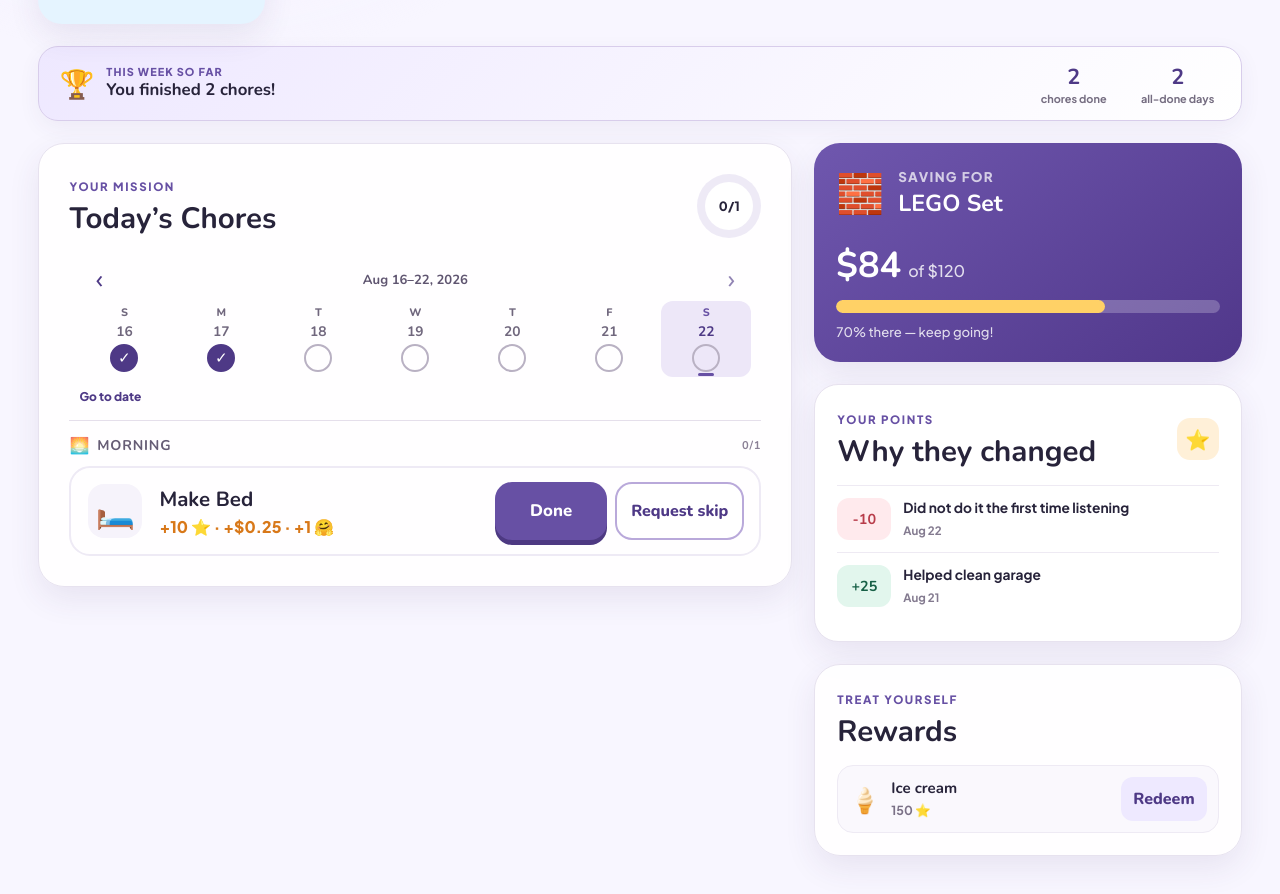
Test: Kids Chores app › lets a kid request parent approval to skip a chore
This screenshot has width=1280, height=894.
(page scrolled)
Step 1. Click the button with aria-label "Request to skip Make Bed" → (680, 511), box top-left (615, 482), bottom-right (744, 540)
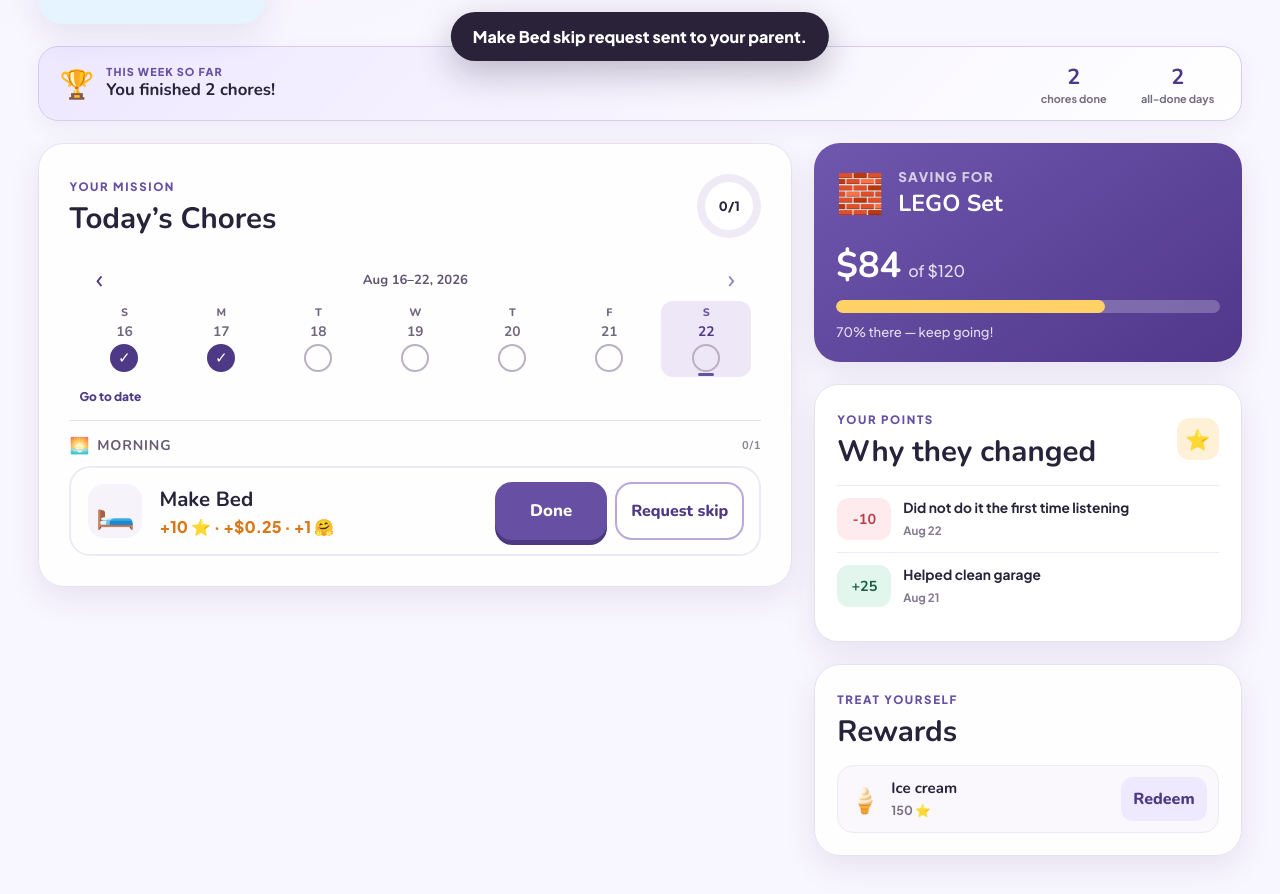
Result: the message reads "Make Bed skip request sent to your parent." at top-left (473, 26), bottom-right (807, 47)
